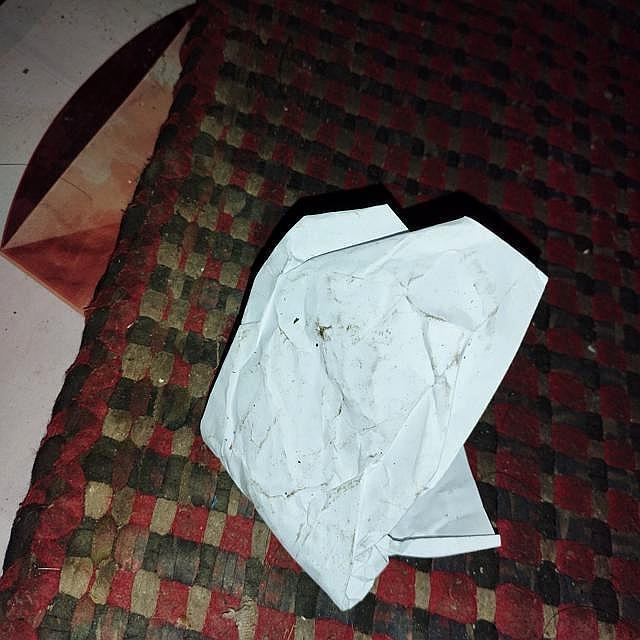Biodegradable: (201, 207, 547, 612)
